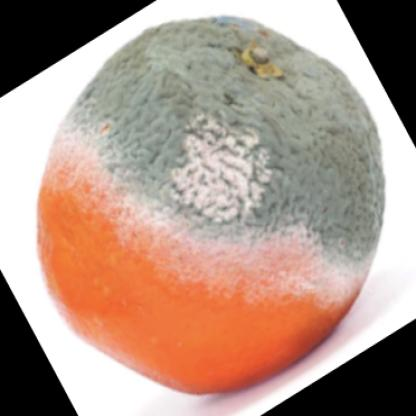rotten: (40, 18, 384, 397)
